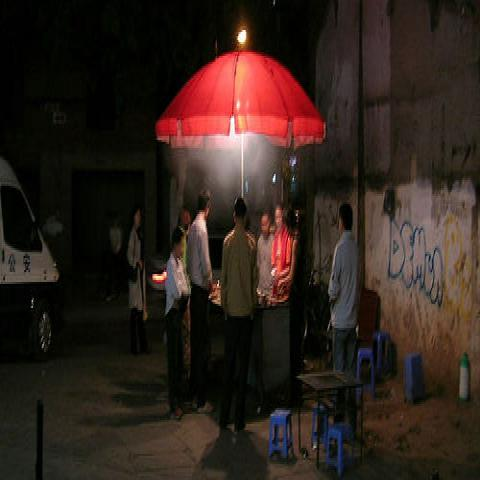car: (1, 148, 65, 362), (146, 228, 232, 322), (41, 214, 63, 239)
